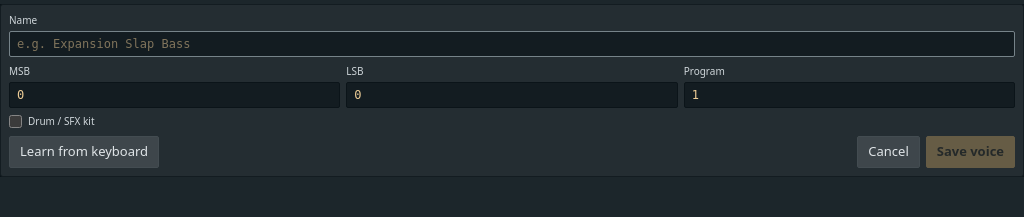
it: learns a same-millisecond bank and program from one MIDI channel
This screenshot has width=1024, height=217.
What coordinates should you click on to do the following:
click the button "Learn from keyboard"
I would click on:
 (84, 152)
Its box is [9, 136, 159, 168].
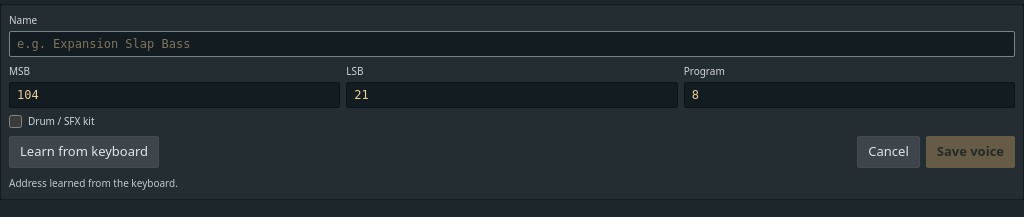
expect the text "Address learned from the keyboard." is shown: met, box [9, 176, 178, 190]
expect the field labelled "MSB" holds "104": met, box [9, 82, 340, 108]
expect the field labelled "LSB" holds "21": met, box [346, 82, 678, 108]
